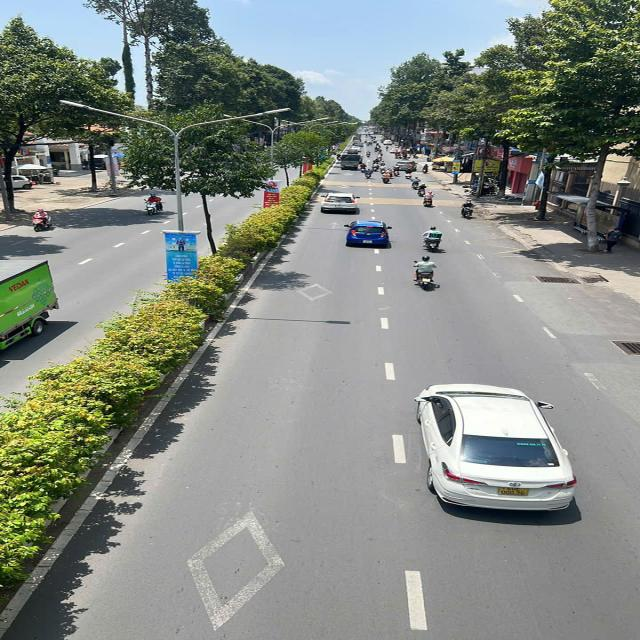ben: (337, 151, 360, 171)
car: (341, 216, 393, 250), (317, 190, 363, 217), (398, 160, 416, 171)
motobyte: (410, 255, 441, 293), (28, 207, 58, 235), (139, 192, 167, 217), (422, 224, 445, 251), (458, 198, 478, 218), (421, 189, 439, 208), (415, 182, 431, 196), (411, 176, 424, 191), (362, 167, 375, 180), (382, 170, 394, 184)
